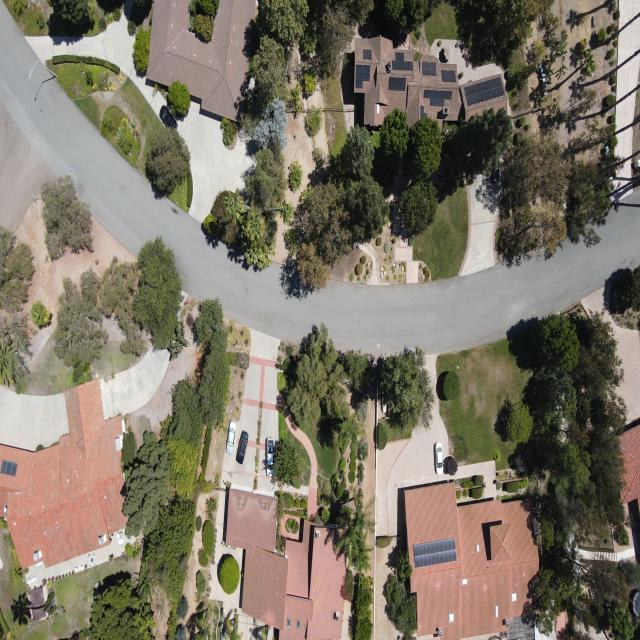solar-panels: (412, 538, 458, 568), (462, 76, 506, 106), (391, 51, 415, 71), (424, 90, 452, 107), (355, 65, 370, 88), (0, 459, 19, 477), (388, 76, 406, 91), (441, 70, 456, 83), (422, 62, 437, 75), (420, 105, 427, 119), (363, 49, 372, 59)
